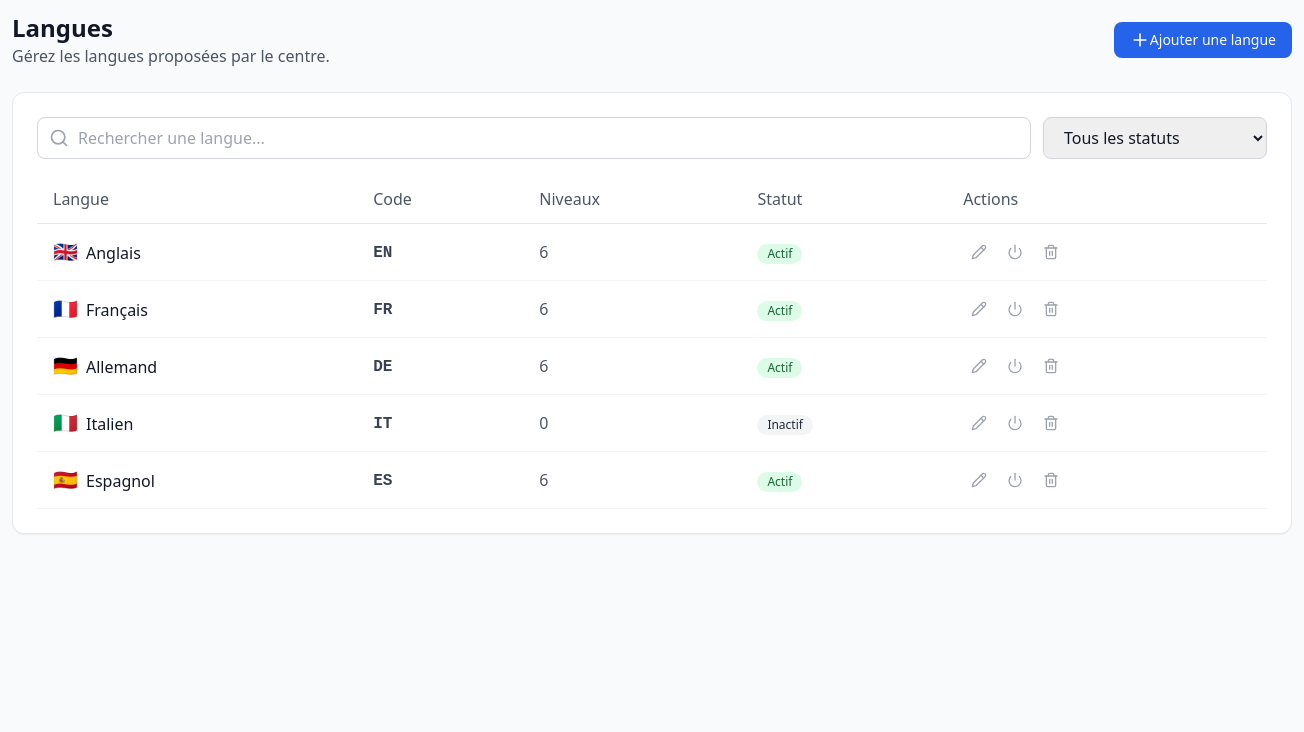
Test case: Languages page (démo locale) › filters languages by search
Type "ital" into the field labelled "Rechercher une langue" at point(534, 138), box [37,117,1031,159]
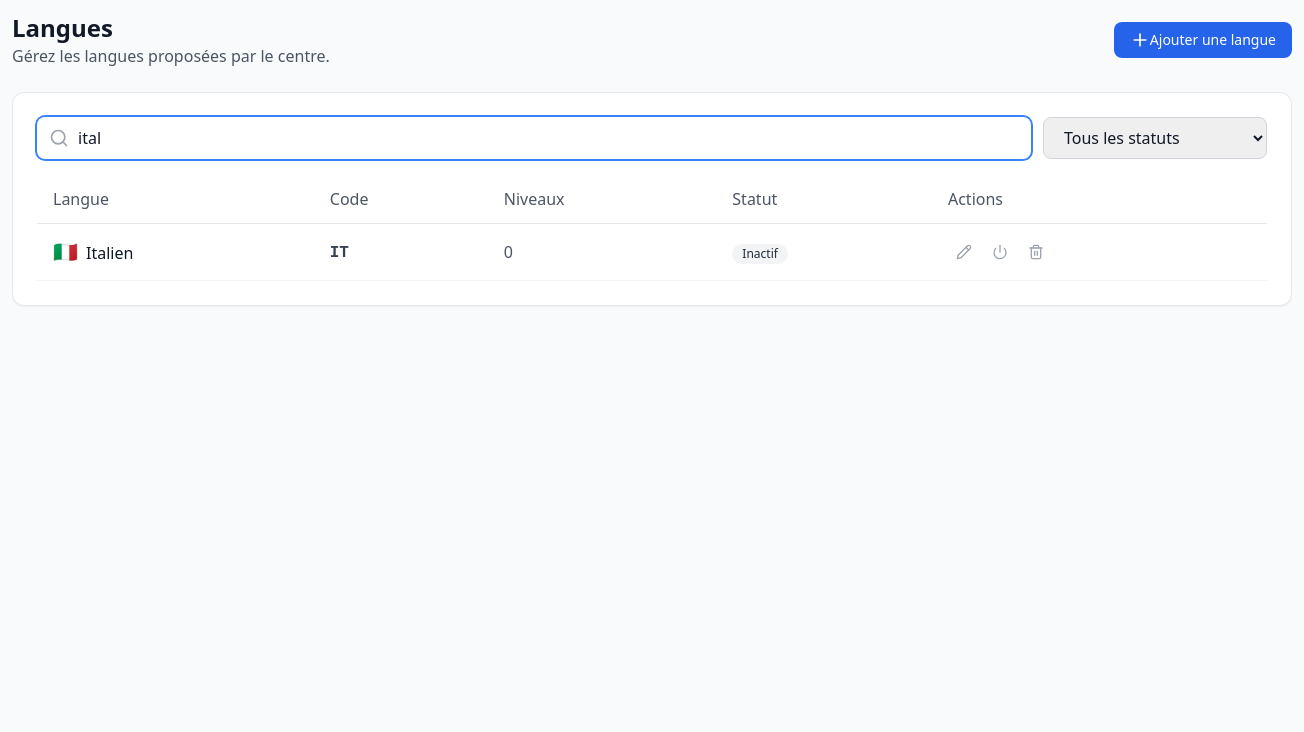
Expected: the text "Italien" is shown, [86,242,133,264]
Now the text "Anglais" is gone
